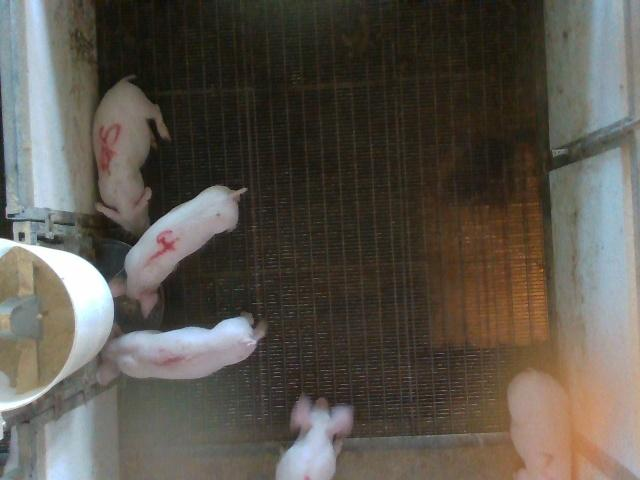pig-1: (96, 314, 266, 384)
pig-4: (109, 185, 246, 317)
pig-5: (92, 75, 170, 236)
